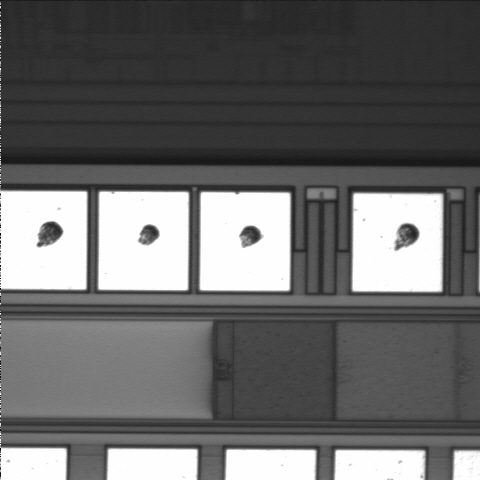pad: (98, 192, 189, 290), (200, 192, 290, 291), (352, 193, 442, 292)
